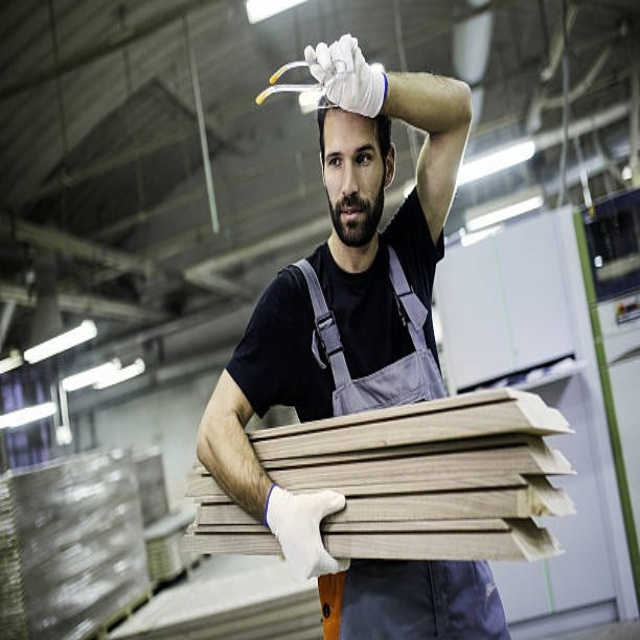Guantes: (264, 484, 348, 583), (303, 33, 387, 118)
Sin_gafas: (322, 135, 376, 180)
Sin_mascara: (336, 196, 368, 234)
